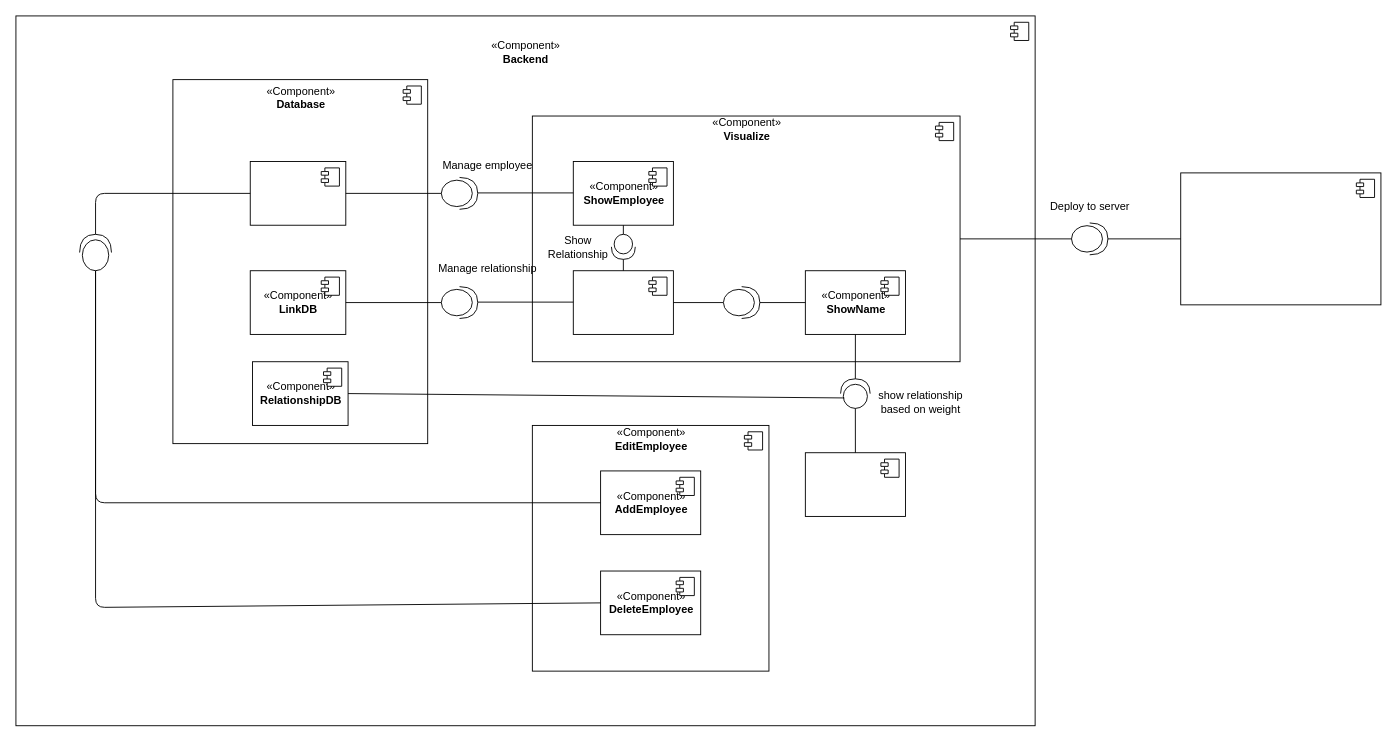
This 1397x742 diagram has some shape labels left out. The centre of each missing label's shape, as x and y in pixels:
«Component» CheckName: point (854, 484)
«Component» EmployeeDB: point (297, 193)
«Component» Server: point (1280, 238)
«Component» ShowRelationship: point (622, 302)
